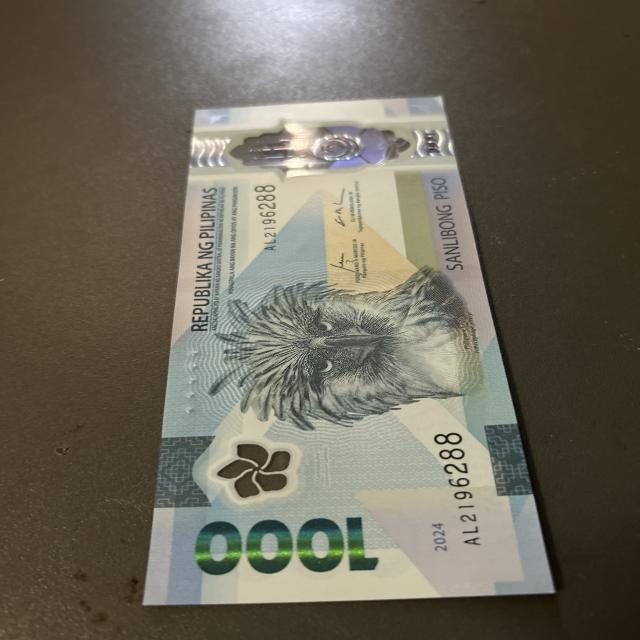clear_window: (225, 116, 418, 182)
eagle: (220, 275, 487, 414)
sampaguita: (218, 443, 292, 498)
serial_number: (436, 430, 511, 549), (248, 180, 294, 266)
value: (191, 516, 382, 572)
